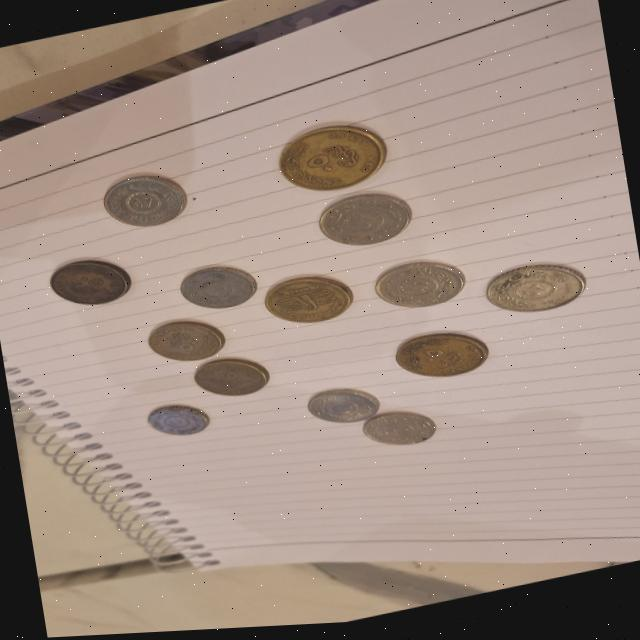Half Pound: (272, 117, 386, 206), (389, 322, 489, 395), (262, 266, 358, 340), (135, 308, 235, 374), (42, 249, 134, 318), (186, 347, 276, 412)
quarter pound: (306, 185, 418, 260), (94, 161, 195, 241), (482, 259, 589, 329), (370, 256, 470, 322), (288, 380, 388, 439), (171, 256, 255, 321), (356, 406, 441, 461), (139, 400, 203, 449)
